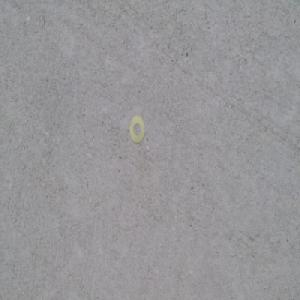Washer: (129, 114, 145, 143)
